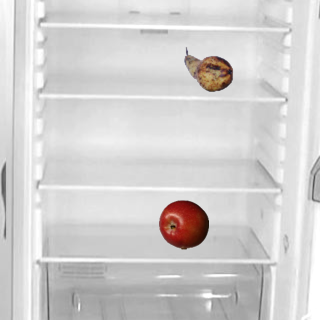Apple Braeburn: (158, 199, 208, 249)
Pear Abate: (183, 44, 233, 94)
